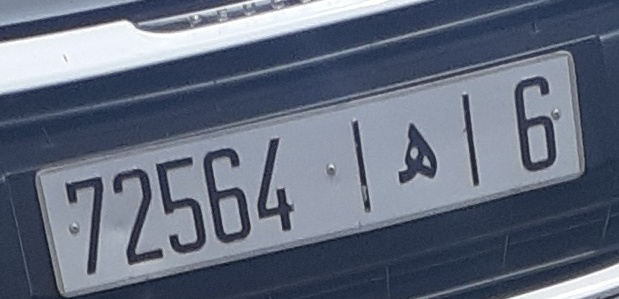2: (109, 161, 165, 268)
4: (254, 133, 300, 236)
5: (153, 149, 211, 262)
6: (510, 71, 562, 175), (201, 140, 251, 247)
7: (60, 173, 106, 279)
h: (388, 118, 442, 188)
